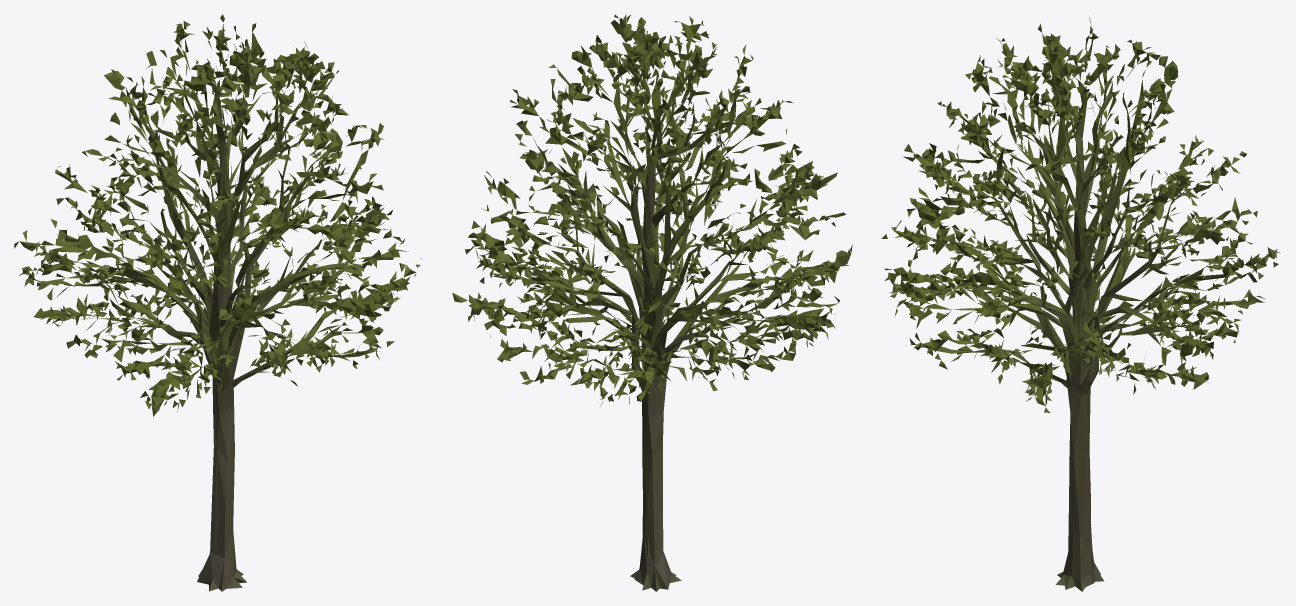
Rendered from lib_tp_bachqua.vc.glb.
3 views of the same model, side by side, from view 1: azimuth 30°, elevation 25°; view 2: azimuth 150°, elevation 25°; view 3: azimuth 270°, elevation 25° (orthographic).
Parts seen in each view (by area): view 1: lib_tp_bachqua; view 2: lib_tp_bachqua; view 3: lib_tp_bachqua.
Part boxes in pixels (box(x1,y1,x2,y2)): lib_tp_bachqua: box(14, 14, 421, 591); lib_tp_bachqua: box(452, 14, 852, 591); lib_tp_bachqua: box(881, 17, 1280, 591).
Bounding box in the file's own units: 1.19 × 1.81 × 1.18.
